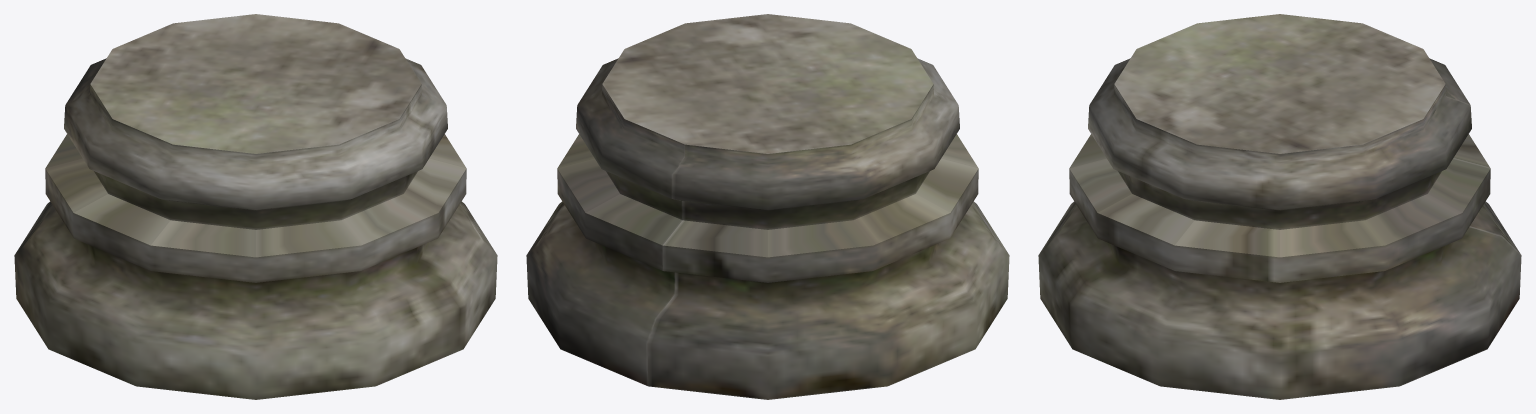
File: a_stone003.FBX
The picture shows the model from 3 angles, left to right: view 1: azimuth 30°, elevation 25°; view 2: azimuth 150°, elevation 25°; view 3: azimuth 270°, elevation 25°; orthographic projection.
Visible parts, largest first — view 1: a_stone003; view 2: a_stone003; view 3: a_stone003.
Boxes of the visible parts, bbox=[...] form: a_stone003: bbox=[14, 14, 497, 399]; a_stone003: bbox=[526, 14, 1009, 399]; a_stone003: bbox=[1038, 14, 1521, 399].
Size of the model in its own units: 160 by 78.54 by 160.
